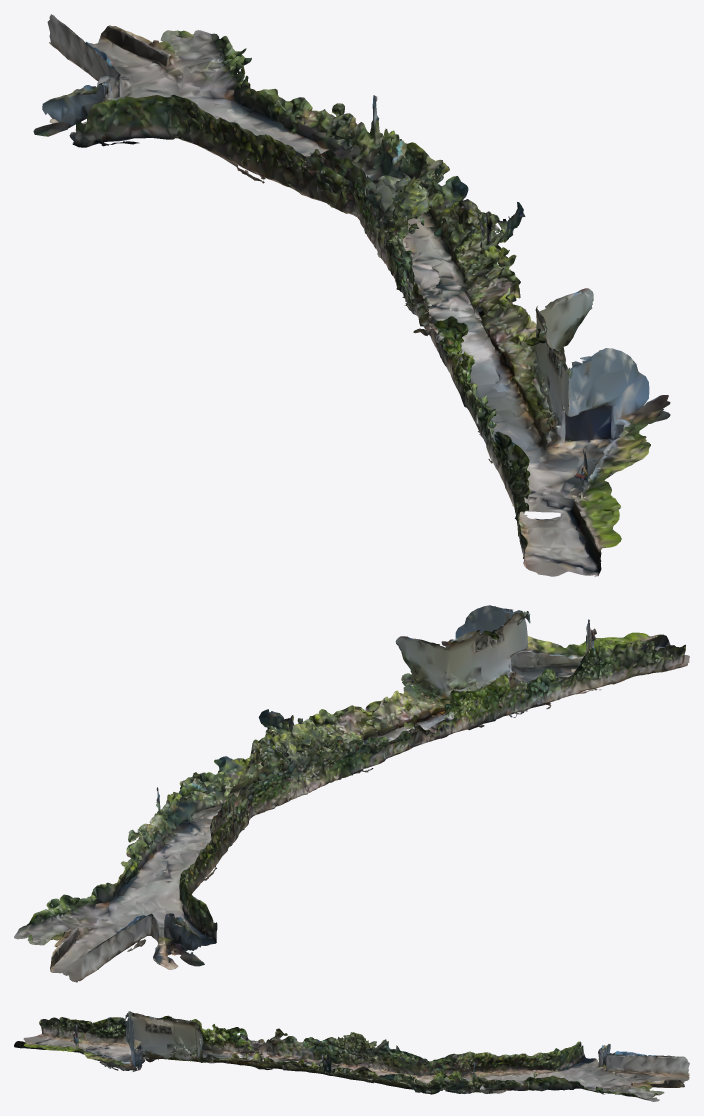
The model's file is street.glb.
3 renders of one model, top to bottom at view 1: azimuth 30°, elevation 25°; view 2: azimuth 150°, elevation 25°; view 3: azimuth 270°, elevation 25°, orthographic. The views are drawn at different scales.
Parts seen in each view (by area): view 1: ScaniverseStreetVisual; view 2: ScaniverseStreetVisual; view 3: ScaniverseStreetVisual.
Boxes of the visible parts, x1,y1,x2,y2 form: ScaniverseStreetVisual: [33, 14, 670, 576]; ScaniverseStreetVisual: [14, 605, 689, 982]; ScaniverseStreetVisual: [14, 1011, 689, 1101].
Bounding box in the file's own units: 18.87 × 7.13 × 72.82.
